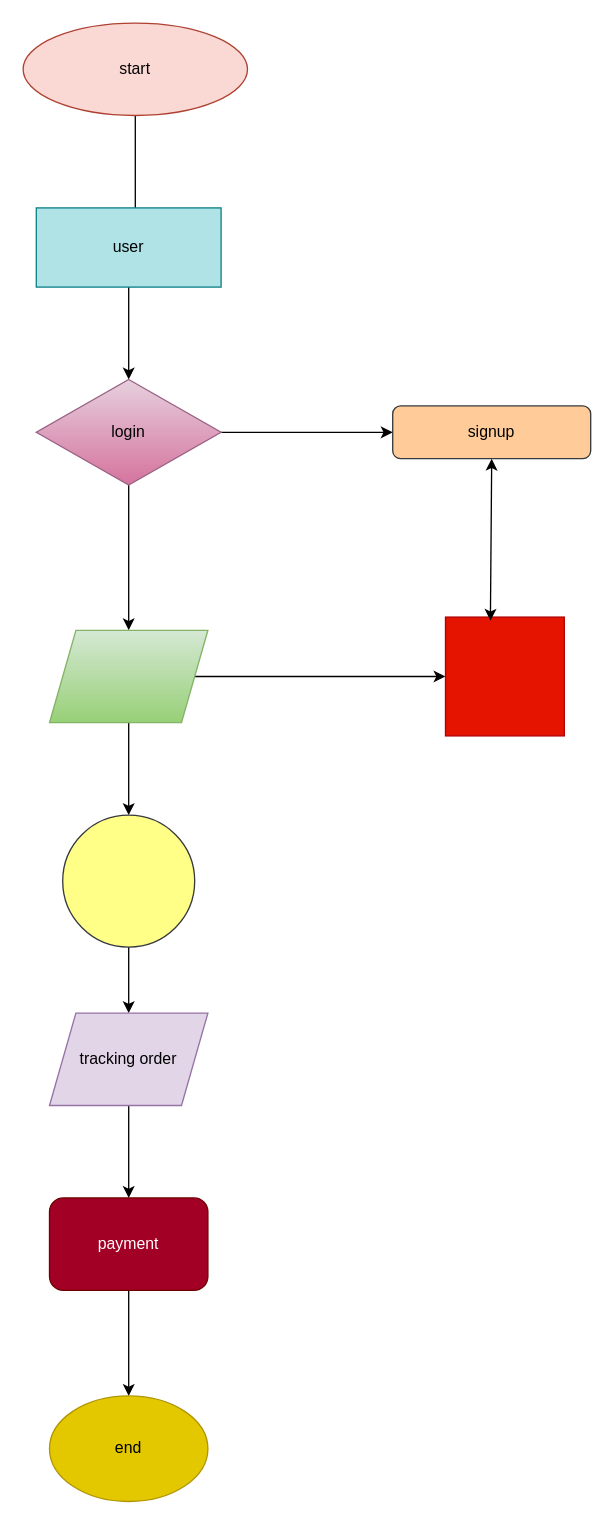
This 614x1525 diagram has some shape labels left out. Here are the shapes that lost their labels. From the top down, the centre of each, then its label:
At pixel 128 676: "main page".
At pixel 504 676: "registration".
At pixel 128 880: "orders".
